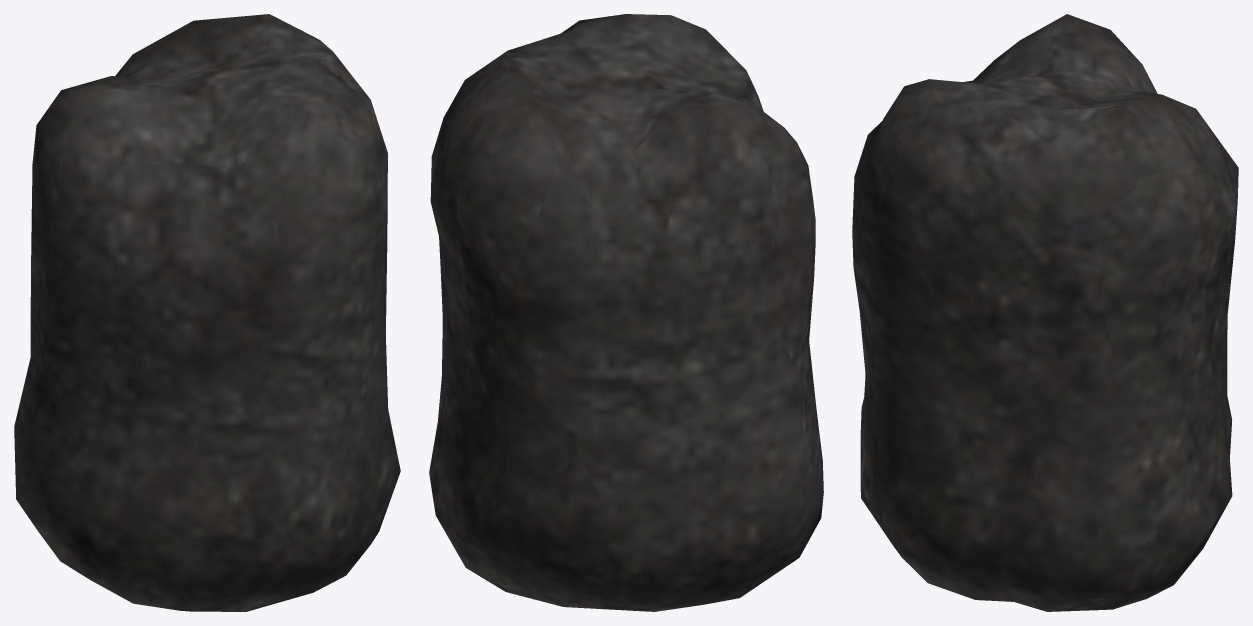
Rendered from CaveWalls4_D.obj.
The picture shows the model from 3 angles, left to right: view 1: azimuth 30°, elevation 25°; view 2: azimuth 150°, elevation 25°; view 3: azimuth 270°, elevation 25°; orthographic projection. The views are drawn at different scales.
Parts seen in each view (by area): view 1: CaveWalls4D; view 2: CaveWalls4D; view 3: CaveWalls4D.
Boxes of the visible parts, x1,y1,x2,y2 form: CaveWalls4D: (14, 14, 400, 611); CaveWalls4D: (429, 14, 823, 611); CaveWalls4D: (852, 14, 1238, 611).
Bounding box in the file's own units: 11.13 × 16.04 × 11.01.
1 material, 1 textured.
